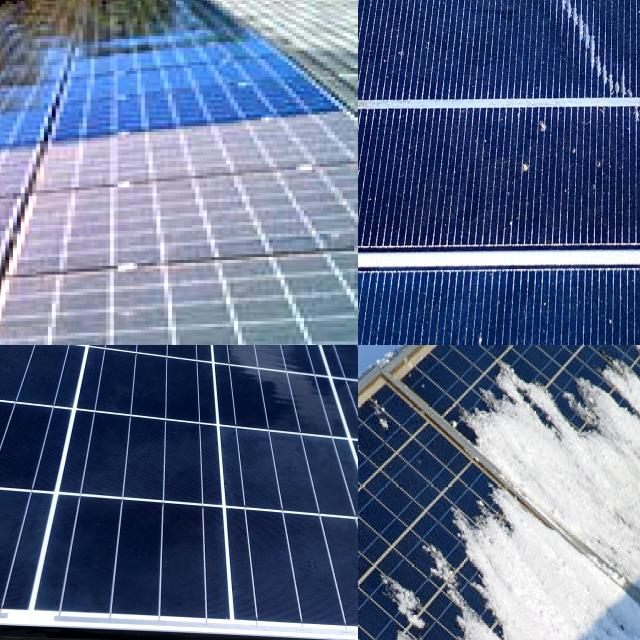crack: (0, 345, 358, 640)
dust: (73, 198, 358, 257), (40, 297, 358, 345), (0, 200, 120, 296)
panel: (398, 489, 537, 602), (465, 358, 572, 450), (358, 569, 478, 640), (437, 423, 536, 496), (551, 374, 631, 459), (358, 606, 487, 640), (358, 541, 403, 613), (616, 345, 640, 444)
shadow: (447, 0, 640, 231)
